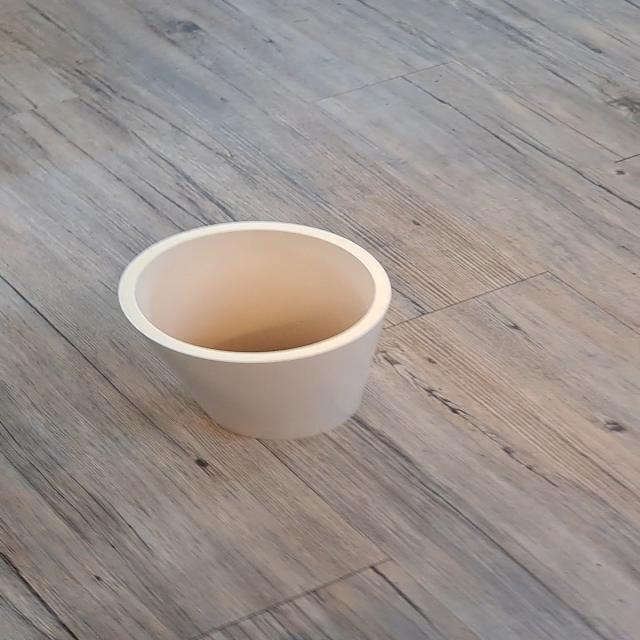CORAL: (78, 211, 430, 464)
